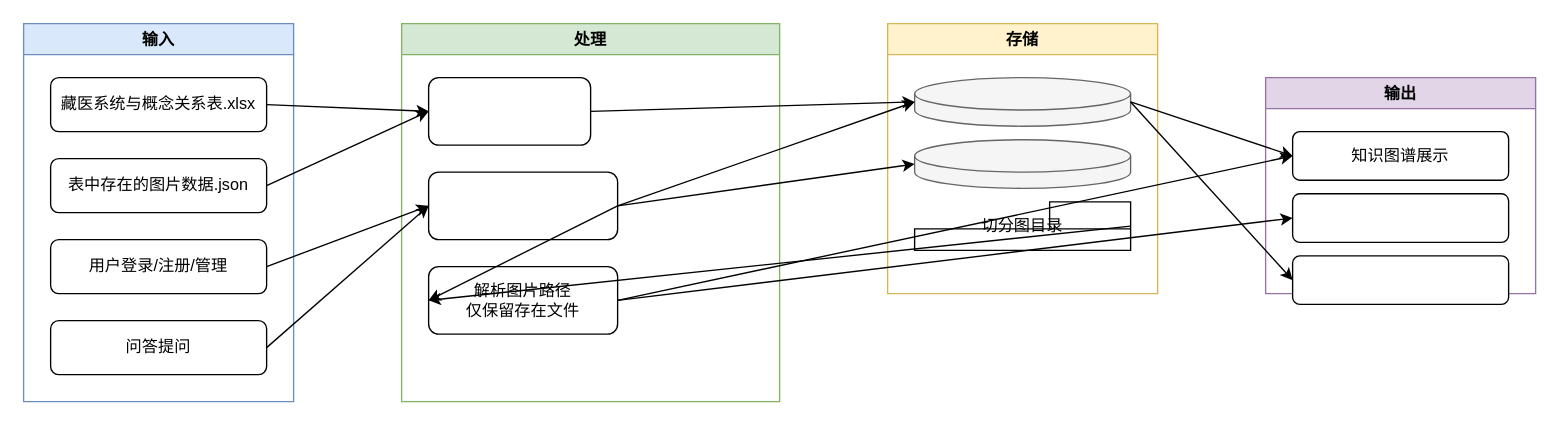
Image size: 1559x425. Some labels were removed from this diagram. The centre of each missing label's shape, as x and y in pixels:
build_graph_data.py 构建图谱: the point at 509,110
Flask 应用 鉴权/路由/业务逻辑: the point at 522,205
knowledge_graph.json: the point at 1022,101
users.json: the point at 1022,163
词云: the point at 1400,279
问答结果+图片: the point at 1400,217
